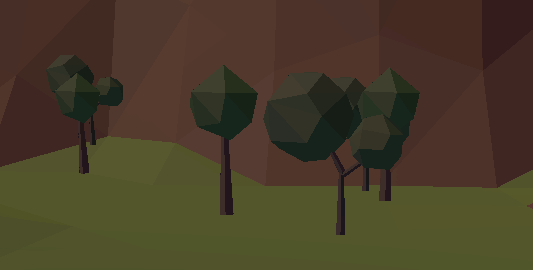tree: (263, 72, 404, 237), (319, 69, 420, 206), (188, 64, 260, 216), (49, 54, 129, 151), (50, 69, 100, 174)
